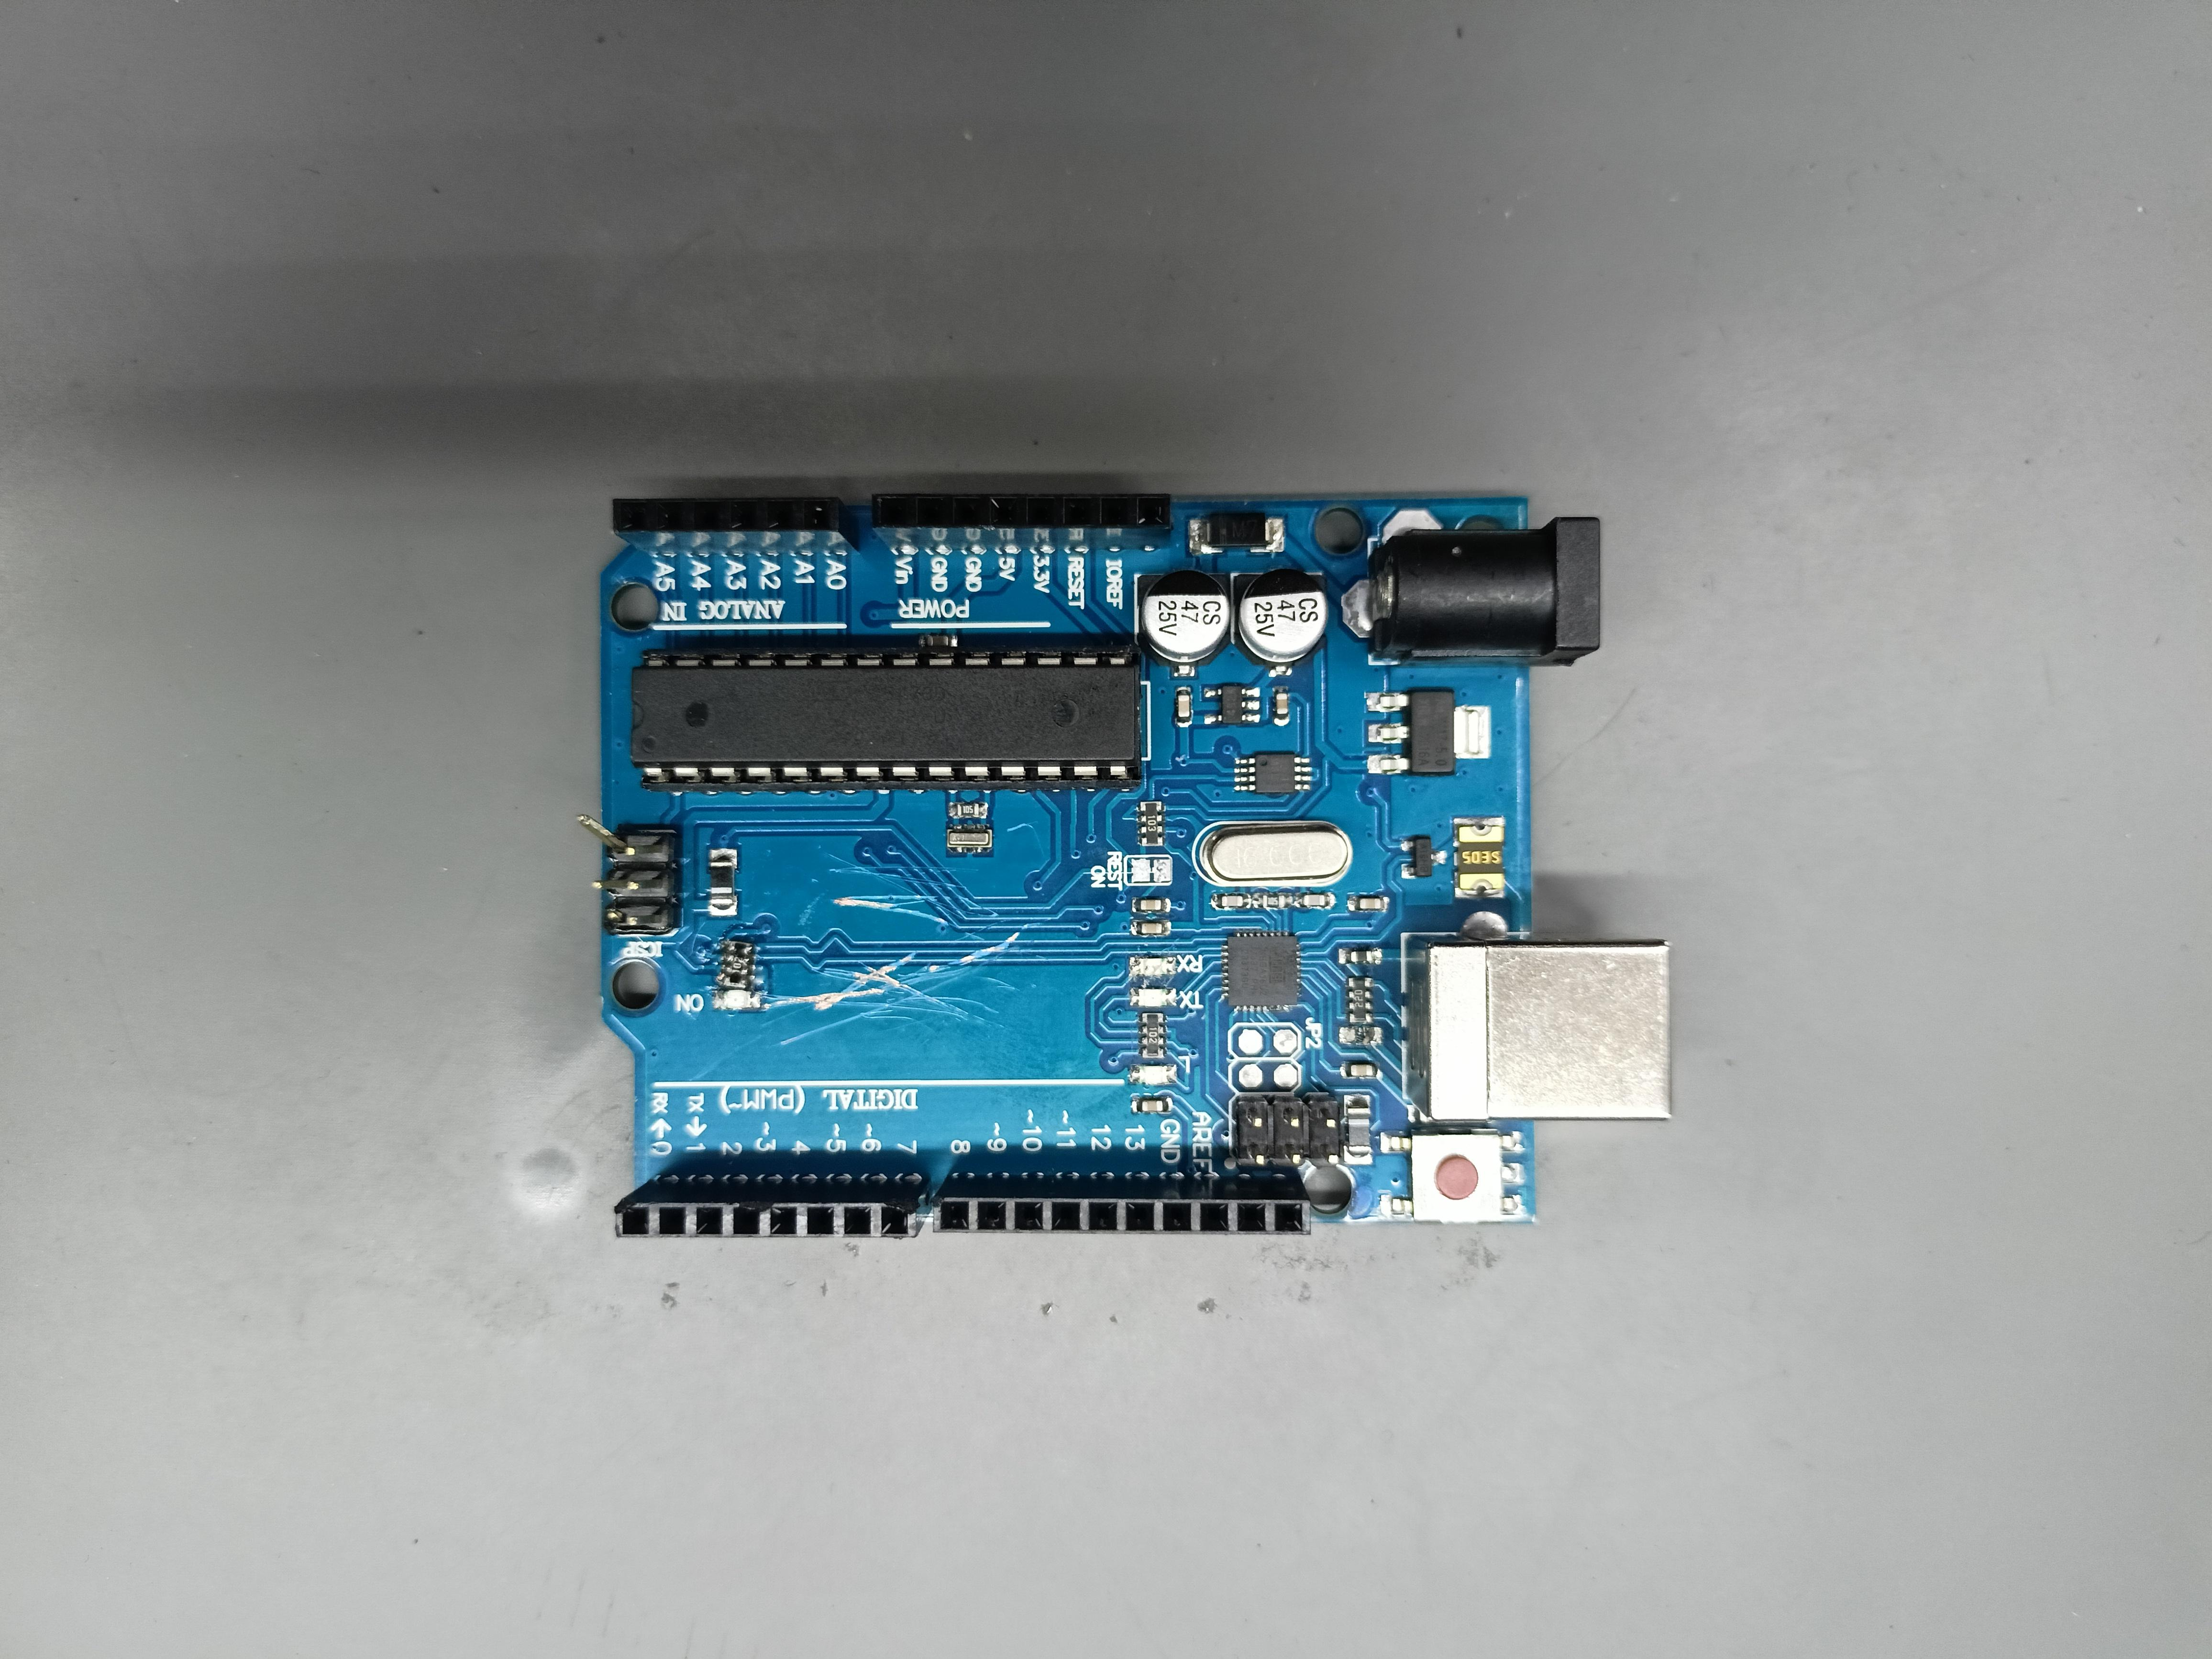ATmega328 chip: (631, 645, 1143, 791)
Arduino board: (577, 493, 1672, 1237)
Scratch: (890, 932, 1033, 1004), (765, 1006, 913, 1047), (761, 993, 968, 1021), (833, 894, 975, 934), (829, 854, 977, 890), (690, 1035, 759, 1080), (859, 950, 920, 993), (812, 979, 895, 1000), (902, 993, 984, 1014), (897, 965, 972, 985), (1007, 821, 1043, 856), (942, 896, 998, 917), (881, 1014, 948, 1032), (681, 922, 705, 969), (904, 1000, 968, 1018), (824, 967, 887, 983), (874, 875, 918, 896), (798, 894, 824, 925), (1127, 976, 1137, 1051), (974, 976, 1021, 992), (812, 969, 859, 981), (974, 1014, 1005, 1028), (1158, 939, 1179, 957), (979, 920, 1005, 931), (954, 932, 984, 941), (697, 946, 712, 962), (918, 1023, 935, 1035), (712, 938, 725, 950), (1021, 922, 1042, 929), (883, 990, 906, 995), (1162, 978, 1174, 986), (698, 934, 712, 941), (977, 1019, 991, 1026), (1141, 978, 1150, 988), (984, 1007, 1000, 1012), (1036, 955, 1049, 960), (887, 997, 895, 1004), (846, 976, 859, 979), (812, 878, 819, 882), (697, 965, 704, 969), (765, 890, 770, 894), (712, 962, 718, 965), (1031, 985, 1036, 988), (954, 1018, 960, 1021), (766, 849, 770, 852), (819, 845, 820, 849)
USB: (1406, 932, 1670, 1121)
capacitor: (1233, 568, 1329, 667), (1137, 570, 1231, 666)
pins: (934, 1175, 1312, 1236), (615, 1178, 932, 1237), (873, 493, 1170, 551), (613, 497, 859, 552)
resistor: (719, 941, 754, 992), (1348, 978, 1372, 1023), (1139, 802, 1163, 847), (1141, 1012, 1163, 1058)
